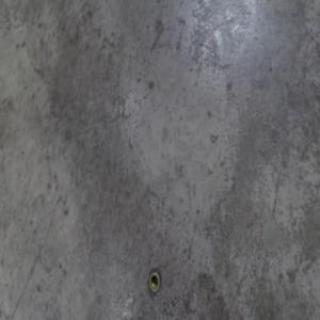Nuttrack_idkeyframe: (148, 268, 160, 295)
